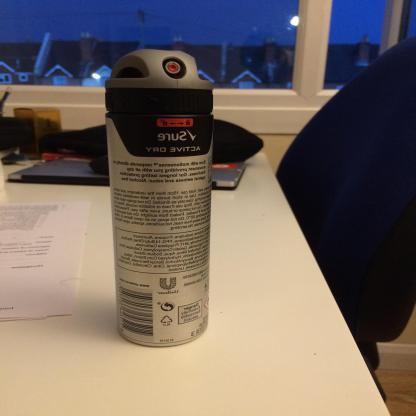metal: (104, 50, 218, 350)
